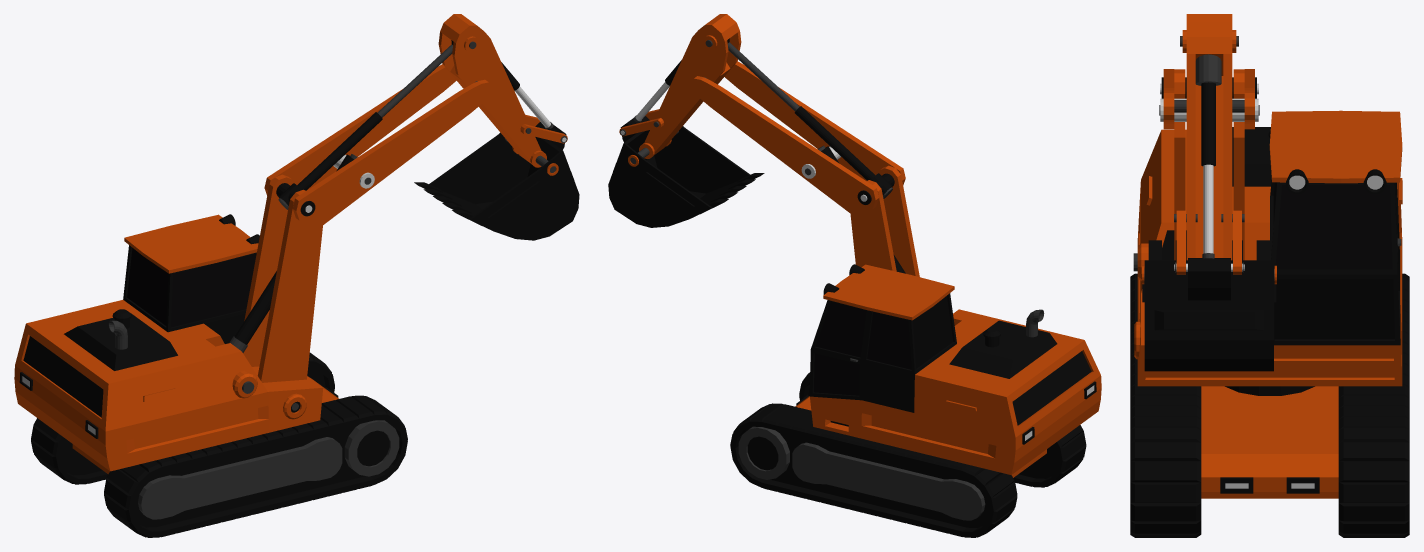
Rendered from Excavator.obj.
3 views of the same model, side by side, from view 1: azimuth 30°, elevation 25°; view 2: azimuth 150°, elevation 25°; view 3: azimuth 270°, elevation 25° (orthographic). The views are drawn at different scales.
Parts seen in each view (by area): view 1: Excavator_Body, Excavator_Tracs, Excavator_Arm_Long_02, Excavator_Bucket, Excavator_Arm_Long_01, Excavator_Arm_Short, Excavator_Idlers, Excavator_Cylinder_02, Excavator_Cylinder_01; view 2: Excavator_Body, Excavator_Tracs, Excavator_Arm_Long_02, Excavator_Bucket, Excavator_Arm_Short, Excavator_Arm_Long_01, Excavator_Idlers, Excavator_Cylinder_02; view 3: Excavator_Body, Excavator_Tracs, Excavator_Bucket, Excavator_Base, Excavator_Arm_Short, Excavator_Arm_Long_01, Excavator_Cylinder_03, Excavator_Arm_Long_02, Excavator_Arm_Bucket, Excavator_Lights, Excavator_Turn_Base, Excavator_Axle_04 (+1 smaller).
Boxes of the visible parts, x1,y1,x2,y2 form: Excavator_Body: [14, 214, 323, 471]; Excavator_Tracs: [31, 352, 407, 537]; Excavator_Arm_Long_02: [264, 64, 493, 225]; Excavator_Bucket: [414, 122, 579, 240]; Excavator_Arm_Long_01: [243, 174, 322, 382]; Excavator_Arm_Short: [438, 14, 541, 163]; Excavator_Idlers: [344, 420, 399, 476]; Excavator_Cylinder_02: [278, 40, 453, 209]; Excavator_Cylinder_01: [229, 154, 357, 352]; Excavator_Body: [810, 264, 1101, 474]; Excavator_Tracs: [730, 372, 1086, 537]; Excavator_Arm_Long_02: [689, 61, 905, 213]; Excavator_Bucket: [608, 116, 764, 227]; Excavator_Arm_Short: [644, 14, 741, 154]; Excavator_Arm_Long_01: [850, 165, 919, 276]; Excavator_Idlers: [738, 426, 789, 479]; Excavator_Cylinder_02: [727, 38, 892, 198]; Excavator_Body: [1137, 110, 1402, 386]; Excavator_Tracs: [1130, 273, 1409, 537]; Excavator_Bucket: [1142, 240, 1276, 371]; Excavator_Base: [1201, 386, 1338, 498]; Excavator_Arm_Short: [1186, 14, 1232, 260]; Excavator_Arm_Long_01: [1174, 69, 1244, 260]; Excavator_Cylinder_03: [1195, 54, 1221, 258]; Excavator_Arm_Long_02: [1163, 69, 1254, 129]; Excavator_Arm_Bucket: [1176, 210, 1241, 274]; Excavator_Lights: [1286, 169, 1386, 194]; Excavator_Turn_Base: [1225, 386, 1314, 395]; Excavator_Axle_04: [1159, 98, 1259, 121].
Bounding box in the file's own units: 4.34 × 3.63 × 1.53.
